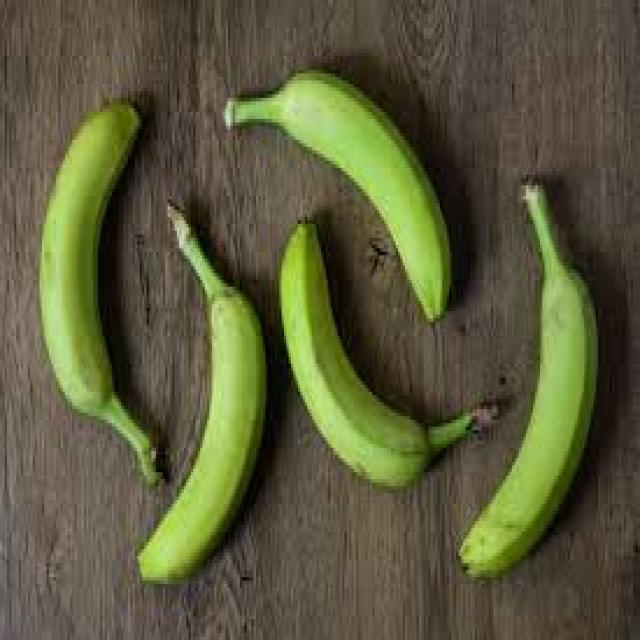non_orange: (280, 214, 503, 494), (456, 168, 602, 582), (226, 68, 456, 321), (36, 91, 167, 485), (139, 200, 271, 591)
